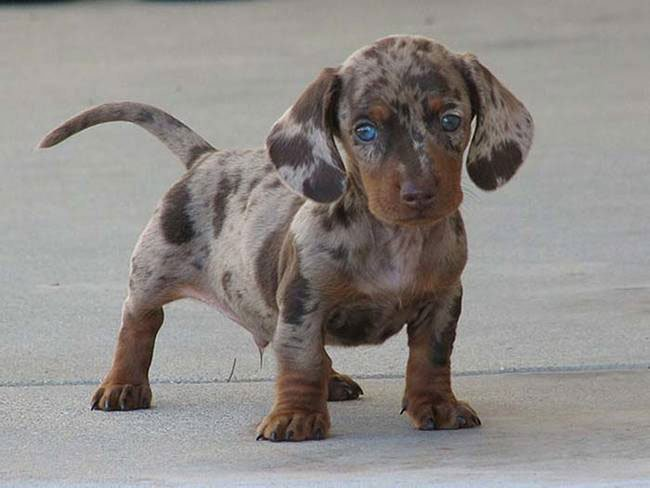dog: (30, 40, 564, 440)
